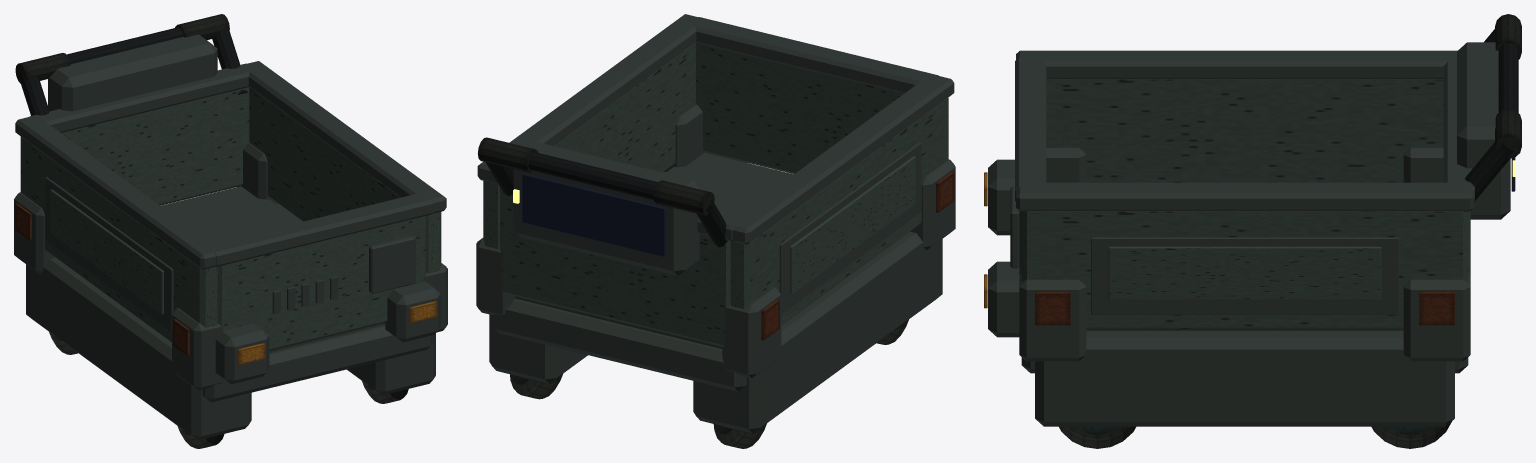
Rendered from ExcavationCart.fbx.
The picture shows the model from 3 angles, left to right: view 1: azimuth 30°, elevation 25°; view 2: azimuth 150°, elevation 25°; view 3: azimuth 270°, elevation 25°; orthographic projection. The views are drawn at different scales.
Visible parts, largest first — view 1: THCart_Chassis.003, THCart_ValueConsole.002, THCart_PushHandle.003, THCart_Wheel_FrontL.007; view 2: THCart_Chassis.003, THCart_ValueConsole.002, THCart_PushHandle.003, THCart_Wheel_RearR.007, THCart_Wheel_RearL.007; view 3: THCart_Chassis.003, THCart_ValueConsole.002, THCart_PushHandle.003, THCart_Wheel_RearR.007, THCart_Wheel_FrontR.007.
Part boxes in pixels (bbox=[...]): THCart_Chassis.003: bbox=[14, 61, 447, 440]; THCart_ValueConsole.002: bbox=[48, 34, 217, 111]; THCart_PushHandle.003: bbox=[15, 14, 247, 115]; THCart_Wheel_FrontL.007: bbox=[177, 426, 224, 448]; THCart_Chassis.003: bbox=[476, 14, 955, 433]; THCart_ValueConsole.002: bbox=[513, 142, 700, 275]; THCart_PushHandle.003: bbox=[477, 137, 727, 247]; THCart_Wheel_RearR.007: bbox=[509, 372, 562, 399]; THCart_Wheel_RearL.007: bbox=[713, 422, 766, 448]; THCart_Chassis.003: bbox=[984, 50, 1474, 426]; THCart_ValueConsole.002: bbox=[1457, 42, 1515, 219]; THCart_PushHandle.003: bbox=[1465, 14, 1521, 201]; THCart_Wheel_RearR.007: bbox=[1371, 421, 1451, 448]; THCart_Wheel_FrontR.007: bbox=[1059, 426, 1135, 448].
Bounding box in the file's own units: 0.816 × 0.78 × 1.2.
Materials: 5 (2 with a texture image).
